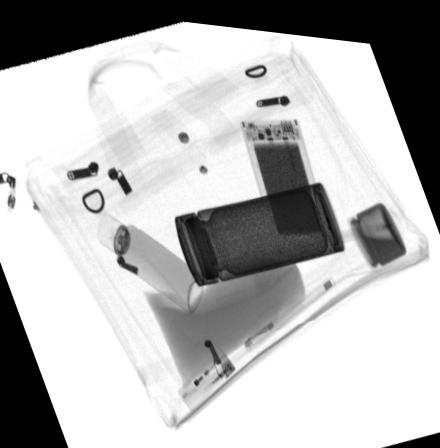Lighter: (176, 341, 234, 406)
Powerbank: (238, 109, 332, 235)
Sprayer: (96, 209, 204, 309)
